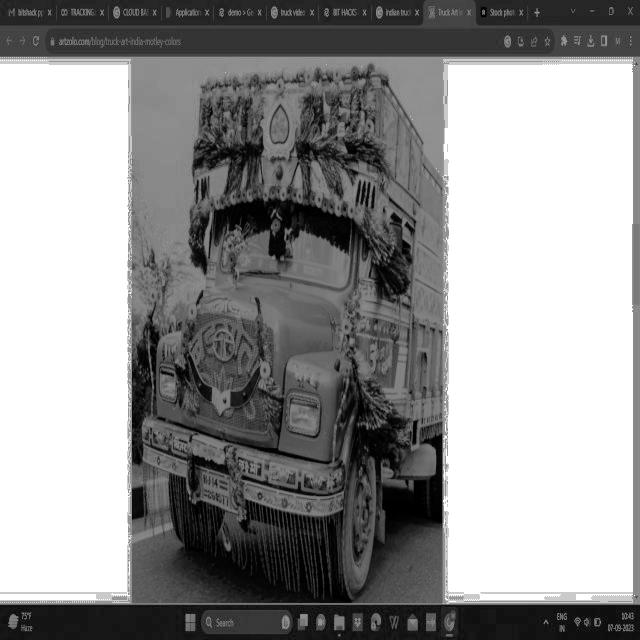HCV: (140, 60, 443, 579)
